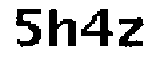4: (79, 5, 115, 49)
5: (11, 5, 43, 48)
h: (48, 7, 78, 51)
z: (116, 16, 150, 49)
